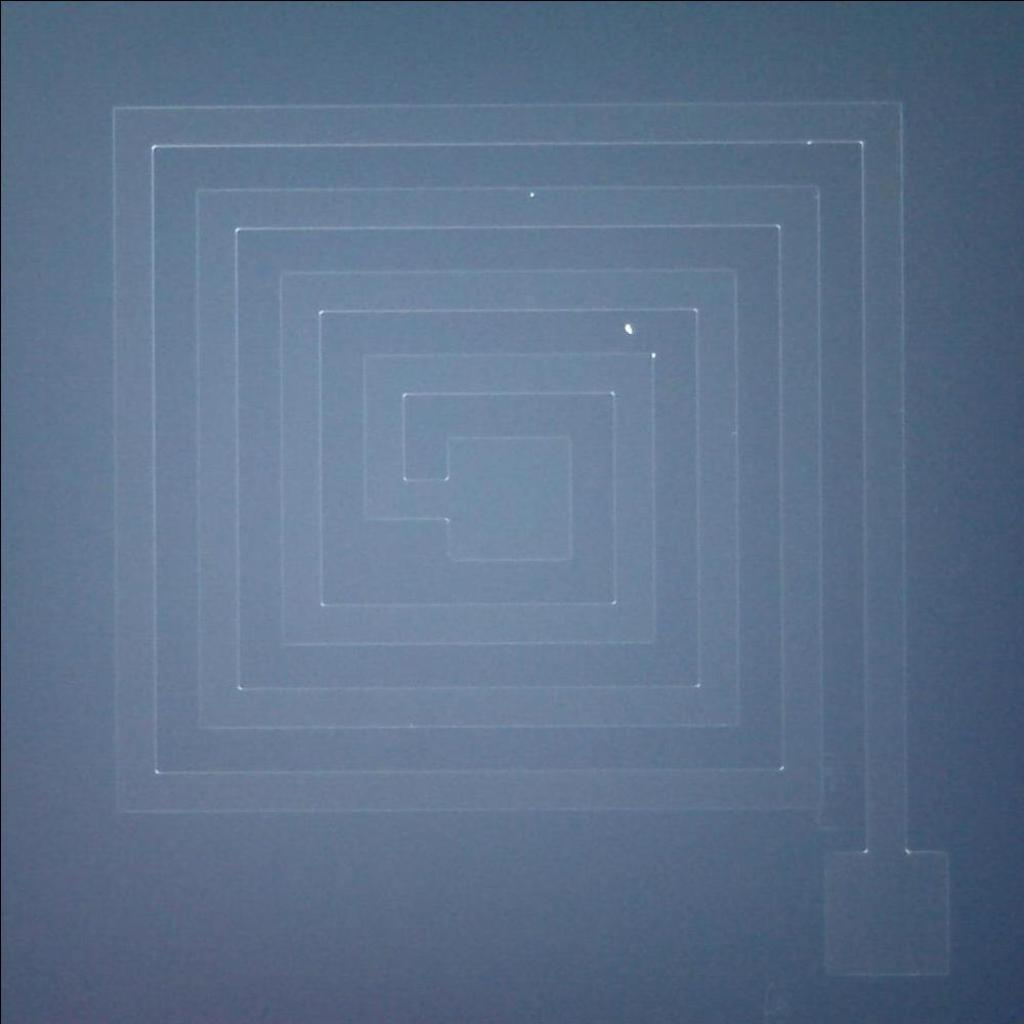dot: (514, 183, 546, 206)
spot: (614, 317, 642, 340)
